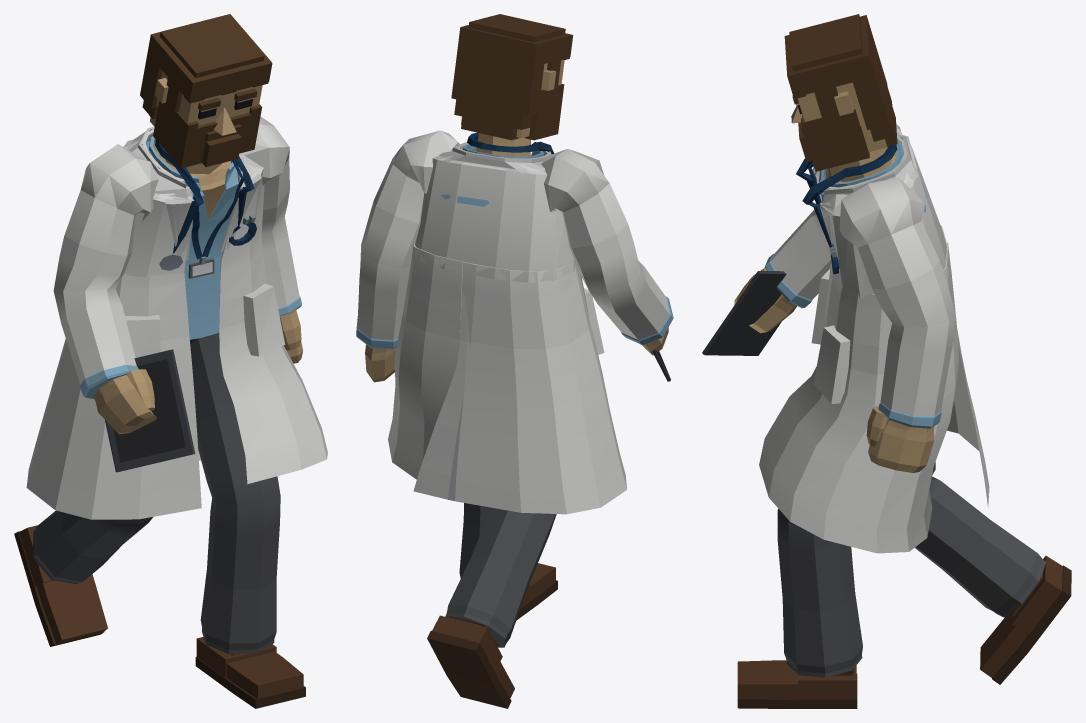
The model's file is doctor-d49de0__walk1.glb.
3 renders of one model, left to right at view 1: azimuth 30°, elevation 25°; view 2: azimuth 150°, elevation 25°; view 3: azimuth 270°, elevation 25°, orthographic. The views are drawn at different scales.
Visible parts, largest first — view 1: doctor-d49de0__walk1; view 2: doctor-d49de0__walk1; view 3: doctor-d49de0__walk1.
Boxes of the visible parts, x1,y1,x2,y2 form: doctor-d49de0__walk1: (14, 14, 327, 708); doctor-d49de0__walk1: (356, 14, 673, 708); doctor-d49de0__walk1: (702, 14, 1071, 708).
Size of the model in its own units: 0.7526 by 1.72 by 0.8663.
